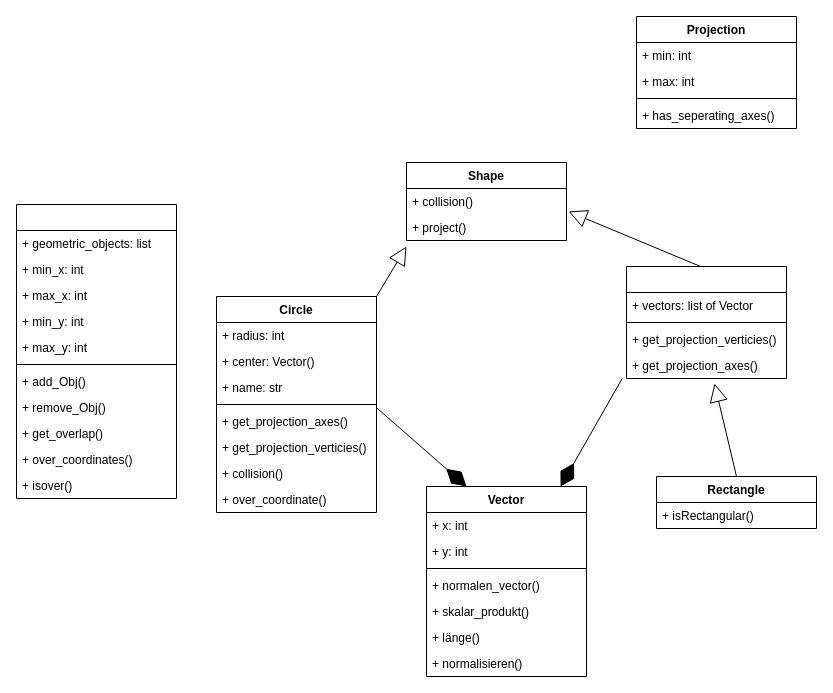
Image size: 833x693. Some labels were removed from this diagram. The box of each missing label's shape, as (x1, y1, x2, y2) in pixels:
Coordinate System: (16, 204, 176, 498)
Polygon: (626, 266, 786, 378)
